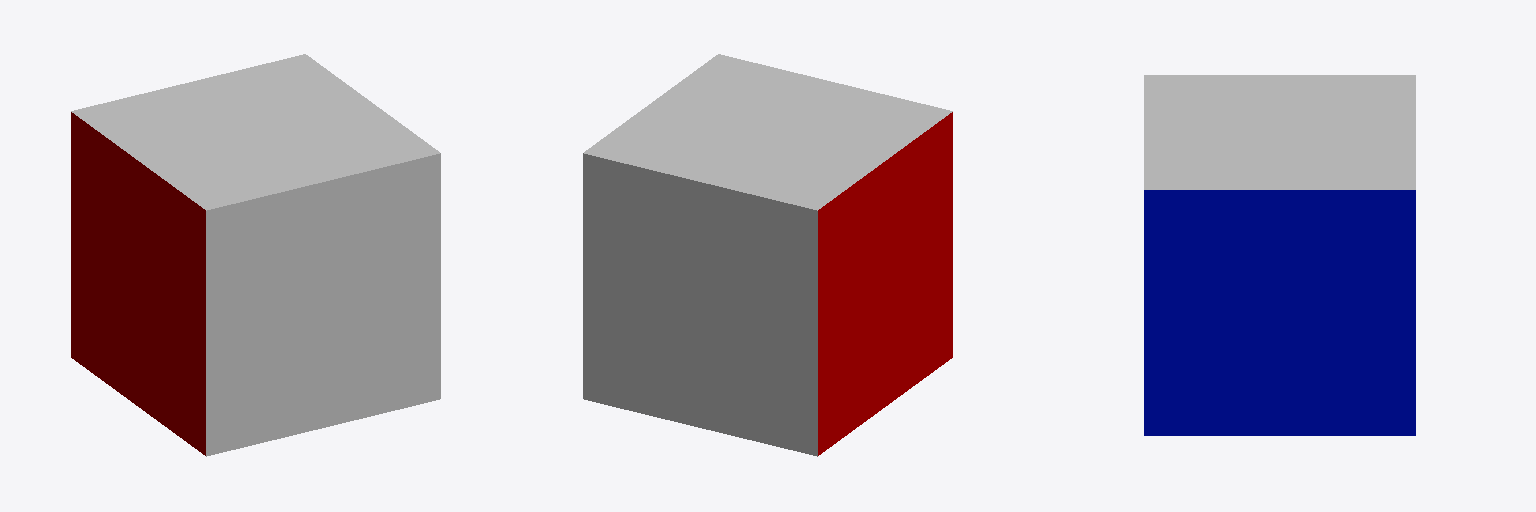
File: boxes-ceiling-light2.obj
The picture shows the model from 3 angles: view 1: azimuth 30°, elevation 25°; view 2: azimuth 150°, elevation 25°; view 3: azimuth 270°, elevation 25°; orthographic projection.
Parts seen in each view (by area): view 1: Walls, Wall_front; view 2: Walls; view 3: Walls.
Part boxes in pixels (bbox=[...]): Walls: bbox=[71, 54, 439, 455]; Wall_front: bbox=[206, 153, 440, 456]; Walls: bbox=[583, 54, 952, 456]; Walls: bbox=[1144, 75, 1415, 435].
Size of the model in its own units: 2 by 2.01 by 2.